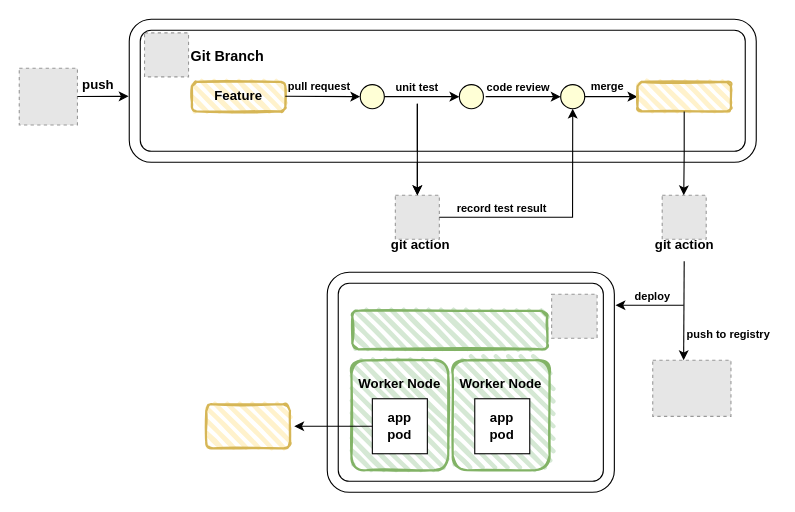
Image size: 795x512. Some labels were removed from this diagram. Grey dashed boxes stand in for pictures. The box of each missing label's shape, as (x1, y1, x2, y2) in pixels:
Cloud Volume: (205, 403, 291, 449)
Develop: (636, 80, 732, 112)
Master Node: (351, 309, 548, 350)
